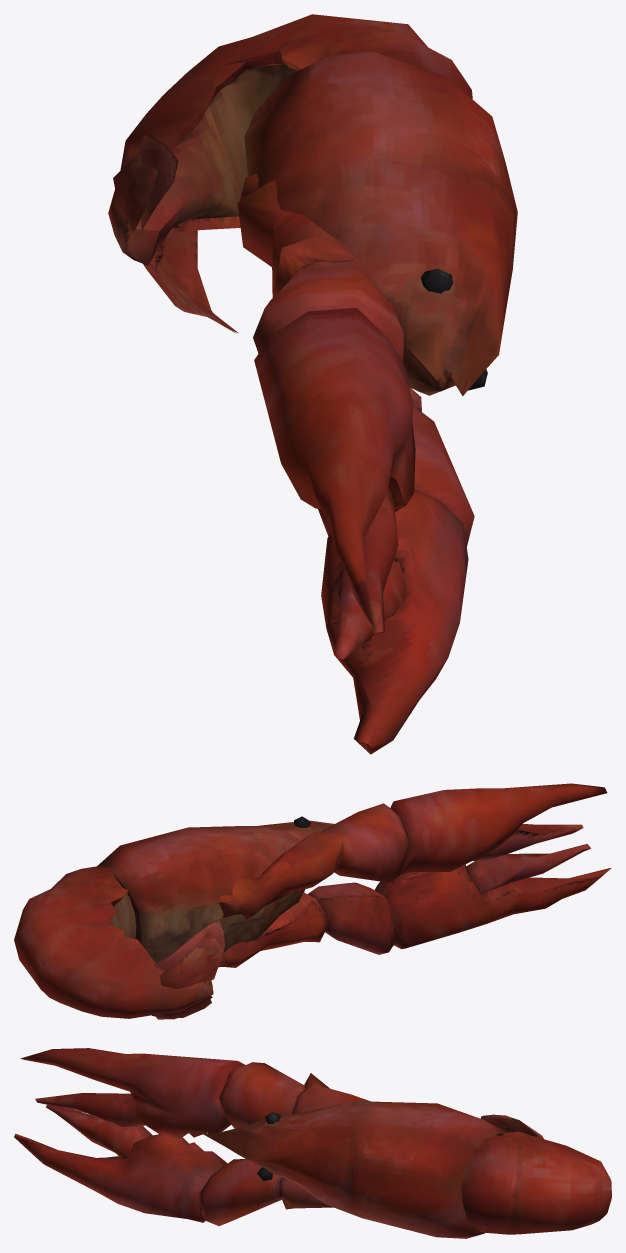
Rendered from ref_redshrimp.glb.
3 views of the same model, one above another, from view 1: azimuth 30°, elevation 25°; view 2: azimuth 150°, elevation 25°; view 3: azimuth 270°, elevation 25° (orthographic). The views are drawn at different scales.
Visible parts, largest first — view 1: ref_redshrimp; view 2: ref_redshrimp; view 3: ref_redshrimp.
Part boxes in pixels (bbox=[...]): ref_redshrimp: bbox=[108, 14, 517, 754]; ref_redshrimp: bbox=[14, 783, 611, 1019]; ref_redshrimp: bbox=[14, 1048, 611, 1238].
Bounding box in the file's own units: 0.5751 × 0.2894 × 1.
1 material, 1 textured.
